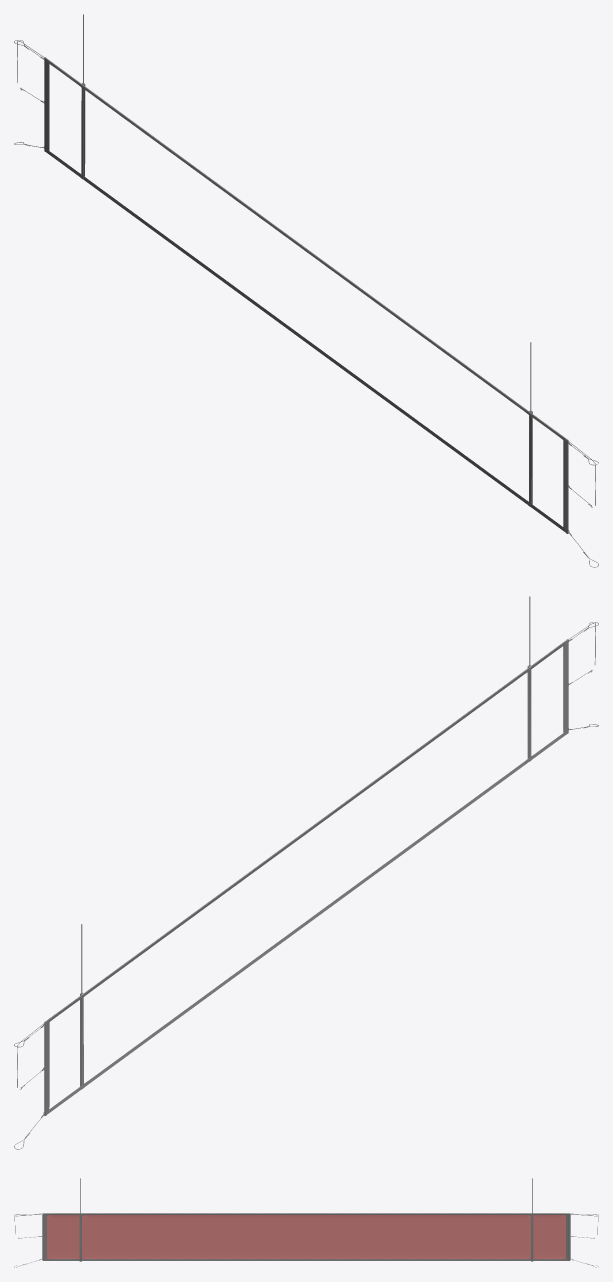
The model's file is SM_Furn_VolleyNet01A.gltf.
The picture shows the model from 3 angles, top to bottom: view 1: azimuth 30°, elevation 25°; view 2: azimuth 150°, elevation 25°; view 3: azimuth 270°, elevation 25°; orthographic projection. The views are drawn at different scales.
Parts seen in each view (by area): view 1: SM_Furn_VolleyNet01A; view 2: SM_Furn_VolleyNet01A; view 3: SM_Furn_VolleyNet01A.
Boxes of the visible parts, x1,y1,x2,y2 form: SM_Furn_VolleyNet01A: [14, 14, 598, 567]; SM_Furn_VolleyNet01A: [14, 596, 598, 1149]; SM_Furn_VolleyNet01A: [14, 1178, 598, 1267].
Bounding box in the file's own units: 0.0983 × 1.95 × 11.6.
